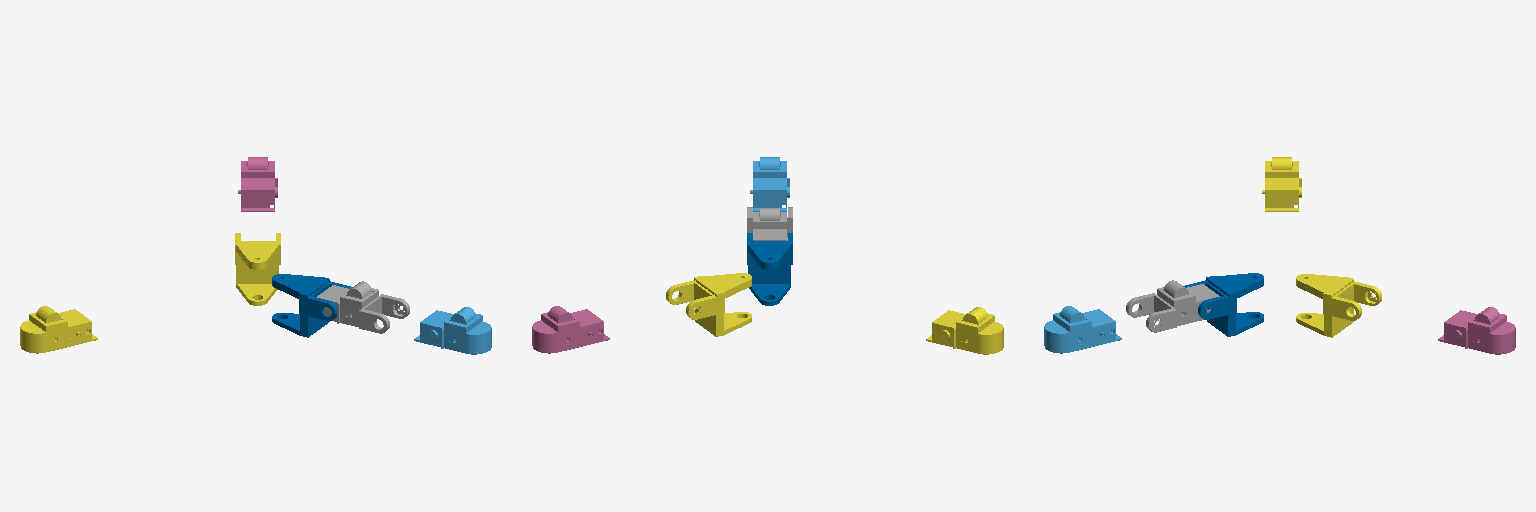
URDF robot description (Space_Gripper_URDF):
<?xml version="1.0" ?>
<robot name="Space_Gripper_URDF">

<!-- <material name="silver">
  <color rgba="0.700 0.700 0.700 1.000"/>
</material> -->

<link name="base_link">
  <inertial>
    <origin xyz="0.2824084412039241 -0.01747868073746133 -0.008955658350251122" rpy="0 0 0"/>
    <mass value="0.1968623967275559"/>
    <inertia ixx="0.000142852426045142" iyy="0.00014289312333068405" izz="0.00022031514808325964" ixy="-1.4233839801258696e-13" iyz="-5.326694082563935e-14" ixz="4.087505551153732e-09"/>
  </inertial>
  <visual>
    <origin xyz="0 0 0" rpy="0 0 0"/>
    <geometry>
      <mesh filename="meshes/base_link.stl" scale="0.001 0.001 0.001"/>
    </geometry>
    <!-- <material name="silver"/>
    <material/> -->
  </visual>
  <collision>
    <origin xyz="0 0 0" rpy="0 0 0"/>
    <geometry>
      <mesh filename="meshes/base_link.stl" scale="0.001 0.001 0.001"/>
    </geometry>
  </collision>
</link>

<link name="finger_link111">
  <inertial>
    <origin xyz="-0.018205227017697667 0.00015866735729531262 0.0019933440227124246" rpy="0 0 0"/>
    <mass value="0.058757815724503226"/>
    <inertia ixx="1.2086298377185494e-05" iyy="2.5715164283030044e-05" izz="2.879228567865405e-05" ixy="2.2279874047472035e-07" iyz="-5.4872261887554326e-08" ixz="1.5145439632609564e-06"/>
  </inertial>
  <visual>
    <origin xyz="-0.18625 0.015983 -0.002636" rpy="0 0 0"/>
    <geometry>
      <mesh filename="meshes/finger_link111.stl" scale="0.001 0.001 0.001"/>
    </geometry>
    <!-- <material name="silver"/>
    <material/> -->
  </visual>
  <collision>
    <origin xyz="-0.18625 0.015983 -0.002636" rpy="0 0 0"/>
    <geometry>
      <mesh filename="meshes/finger_link111.stl" scale="0.001 0.001 0.001"/>
    </geometry>
  </collision>
</link>

<link name="finger_link121">
  <inertial>
    <origin xyz="-0.01820463486106834 0.00015866628118000464 0.001993344022712669" rpy="0 0 0"/>
    <mass value="0.05875781572450322"/>
    <inertia ixx="1.2086298377186012e-05" iyy="2.571516428301183e-05" izz="2.8792285678610357e-05" ixy="2.2279874047543863e-07" iyz="-5.4872261887839776e-08" ixz="1.5145439632596588e-06"/>
  </inertial>
  <visual>
    <origin xyz="-0.12573 0.015983 -0.002636" rpy="0 0 0"/>
    <geometry>
      <mesh filename="meshes/finger_link121.stl" scale="0.001 0.001 0.001"/>
    </geometry>
    <!-- <material name="silver"/>
    <material/> -->
  </visual>
  <collision>
    <origin xyz="-0.12573 0.015983 -0.002636" rpy="0 0 0"/>
    <geometry>
      <mesh filename="meshes/finger_link121.stl" scale="0.001 0.001 0.001"/>
    </geometry>
  </collision>
</link>

<link name="finger_link131">
  <inertial>
    <origin xyz="-0.019053961862239142 7.538214441370553e-05 0.0017196164826307867" rpy="0 0 0"/>
    <mass value="0.06168699584880364"/>
    <inertia ixx="1.0367677463030628e-05" iyy="2.6023436424459605e-05" izz="2.693695428223494e-05" ixy="2.1508324324166967e-08" iyz="-6.551227342465785e-08" ixz="1.1297772533768476e-06"/>
  </inertial>
  <visual>
    <origin xyz="-0.065211 0.015983 -0.002636" rpy="0 0 0"/>
    <geometry>
      <mesh filename="meshes/finger_link131.stl" scale="0.001 0.001 0.001"/>
    </geometry>
    <!-- <material name="silver"/>
    <material/> -->
  </visual>
  <collision>
    <origin xyz="-0.065211 0.015983 -0.002636" rpy="0 0 0"/>
    <geometry>
      <mesh filename="meshes/finger_link131.stl" scale="0.001 0.001 0.001"/>
    </geometry>
  </collision>
</link>

<link name="finger_link311">
  <inertial>
    <origin xyz="0.009239967439434893 0.015687081058691682 0.0019933440227124254" rpy="0 0 0"/>
    <mass value="0.058757815724503115"/>
    <inertia ixx="2.2114998447879657e-05" iyy="1.5686464226054297e-05" izz="2.8792285692595156e-05" ixy="-6.012871425806199e-06" iyz="-1.2841974334595889e-06" ixz="-8.047927642447679e-07"/>
  </inertial>
  <visual>
    <origin xyz="-0.331752 -0.065031 -0.002636" rpy="0 0 0"/>
    <geometry>
      <mesh filename="meshes/finger_link311.stl" scale="0.001 0.001 0.001"/>
    </geometry>
    <!-- <material name="silver"/>
    <material/> -->
  </visual>
  <collision>
    <origin xyz="-0.331752 -0.065031 -0.002636" rpy="0 0 0"/>
    <geometry>
      <mesh filename="meshes/finger_link311.stl" scale="0.001 0.001 0.001"/>
    </geometry>
  </collision>
</link>

<link name="finger_link321">
  <inertial>
    <origin xyz="0.009239670429177227 0.015686426211100155 0.001993344022712691" rpy="0 0 0"/>
    <mass value="0.05875781572450316"/>
    <inertia ixx="2.2114998447879657e-05" iyy="1.5686464226057767e-05" izz="2.8792285692599492e-05" ixy="-6.0128714258079335e-06" iyz="-1.2841974334595448e-06" ixz="-8.047927642447679e-07"/>
  </inertial>
  <visual>
    <origin xyz="-0.362012 -0.117443 -0.002636" rpy="0 0 0"/>
    <geometry>
      <mesh filename="meshes/finger_link321.stl" scale="0.001 0.001 0.001"/>
    </geometry>
    <!-- <material name="silver"/>
    <material/> -->
  </visual>
  <collision>
    <origin xyz="-0.362012 -0.117443 -0.002636" rpy="0 0 0"/>
    <geometry>
      <mesh filename="meshes/finger_link321.stl" scale="0.001 0.001 0.001"/>
    </geometry>
  </collision>
</link>

<link name="finger_link331">
  <inertial>
    <origin xyz="0.009592707751169272 0.016463598449517863 0.0017196164826307745" rpy="0 0 0"/>
    <mass value="0.06168699584880366"/>
    <inertia ixx="2.2090869937946983e-05" iyy="1.4300243961509057e-05" izz="2.693695429442644e-05" ixy="-6.789896655460051e-06" iyz="-9.456596826459644e-07" ixz="-6.216239297316171e-07"/>
  </inertial>
  <visual>
    <origin xyz="-0.392271 -0.169854 -0.002636" rpy="0 0 0"/>
    <geometry>
      <mesh filename="meshes/finger_link331.stl" scale="0.001 0.001 0.001"/>
    </geometry>
    <!-- <material name="silver"/>
    <material/> -->
  </visual>
  <collision>
    <origin xyz="-0.392271 -0.169854 -0.002636" rpy="0 0 0"/>
    <geometry>
      <mesh filename="meshes/finger_link331.stl" scale="0.001 0.001 0.001"/>
    </geometry>
  </collision>
</link>

<link name="finger_link211">
  <inertial>
    <origin xyz="0.008964553001198305 -0.0158457897051294 0.001993344022712414" rpy="0 0 0"/>
    <mass value="0.05875781572450313"/>
    <inertia ixx="2.250089717573448e-05" iyy="1.530056548438609e-05" izz="2.8792285678780685e-05" ixy="5.7900726794343944e-06" iyz="1.3390696782788821e-06" ixz="-7.097512088737208e-07"/>
  </inertial>
  <visual>
    <origin xyz="-0.329162 0.101484 -0.002636" rpy="0 0 0"/>
    <geometry>
      <mesh filename="meshes/finger_link211.stl" scale="0.001 0.001 0.001"/>
    </geometry>
    <!-- <material name="silver"/>
    <material/> -->
  </visual>
  <collision>
    <origin xyz="-0.329162 0.101484 -0.002636" rpy="0 0 0"/>
    <geometry>
      <mesh filename="meshes/finger_link211.stl" scale="0.001 0.001 0.001"/>
    </geometry>
  </collision>
</link>

<link name="finger_link221">
  <inertial>
    <origin xyz="0.008965257854827213 -0.01584513378142255 0.0019933440227126796" rpy="0 0 0"/>
    <mass value="0.05875781572450321"/>
    <inertia ixx="2.250089717573448e-05" iyy="1.530056548438609e-05" izz="2.879228567878242e-05" ixy="5.790072679435262e-06" iyz="1.3390696782788347e-06" ixz="-7.097512088737615e-07"/>
  </inertial>
  <visual>
    <origin xyz="-0.359421 0.153896 -0.002636" rpy="0 0 0"/>
    <geometry>
      <mesh filename="meshes/finger_link221.stl" scale="0.001 0.001 0.001"/>
    </geometry>
    <!-- <material name="silver"/>
    <material/> -->
  </visual>
  <collision>
    <origin xyz="-0.359421 0.153896 -0.002636" rpy="0 0 0"/>
    <geometry>
      <mesh filename="meshes/finger_link221.stl" scale="0.001 0.001 0.001"/>
    </geometry>
  </collision>
</link>

<link name="finger_link231">
  <inertial>
    <origin xyz="0.009461547533584691 -0.016539021883803656 0.0017196164826307546" rpy="0 0 0"/>
    <mass value="0.061686995848803675"/>
    <inertia ixx="2.2128123439353956e-05" iyy="1.426299044805443e-05" izz="2.693695428237705e-05" ixy="6.76838832596241e-06" iyz="1.0111719387549014e-06" ixz="-5.081533336429451e-07"/>
  </inertial>
  <visual>
    <origin xyz="-0.389681 0.206307 -0.002636" rpy="0 0 0"/>
    <geometry>
      <mesh filename="meshes/finger_link231.stl" scale="0.001 0.001 0.001"/>
    </geometry>
    <!-- <material name="silver"/>
    <material/> -->
  </visual>
  <collision>
    <origin xyz="-0.389681 0.206307 -0.002636" rpy="0 0 0"/>
    <geometry>
      <mesh filename="meshes/finger_link231.stl" scale="0.001 0.001 0.001"/>
    </geometry>
  </collision>
</link>

<link name="palm_link11">
  <inertial>
    <origin xyz="-0.033808036955607745 0.0003209242466304836 0.004859626131341327" rpy="0 0 0"/>
    <mass value="0.04512002505288437"/>
    <inertia ixx="1.955569656739964e-05" iyy="2.2266615430205448e-05" izz="1.8449937761857993e-05" ixy="2.5455755867535086e-07" iyz="-1.2175243086354105e-07" ixz="8.540751990812511e-07"/>
  </inertial>
  <visual>
    <origin xyz="-0.252173 0.016479 0.010014" rpy="0 0 0"/>
    <geometry>
      <mesh filename="meshes/palm_link11.stl" scale="0.001 0.001 0.001"/>
    </geometry>
    <!-- <material name="silver"/>
    <material/> -->
  </visual>
  <collision>
    <origin xyz="-0.252173 0.016479 0.010014" rpy="0 0 0"/>
    <geometry>
      <mesh filename="meshes/palm_link11.stl" scale="0.001 0.001 0.001"/>
    </geometry>
  </collision>
</link>

<link name="palm_link31">
  <inertial>
    <origin xyz="0.017181842395234237 0.029118389688091016 0.00485962613541978" rpy="0 0 0"/>
    <mass value="0.04512002511118017"/>
    <inertia ixx="2.136843242511441e-05" iyy="2.0453879616765848e-05" izz="1.8449937789699437e-05" ixy="-1.3011410833712158e-06" iyz="-6.787746076151967e-07" ixz="-5.324782961754261e-07"/>
  </inertial>
  <visual>
    <origin xyz="-0.298361 -0.008188 0.010014" rpy="0 0 0"/>
    <geometry>
      <mesh filename="meshes/palm_link31.stl" scale="0.001 0.001 0.001"/>
    </geometry>
    <!-- <material name="silver"/>
    <material/> -->
  </visual>
  <collision>
    <origin xyz="-0.298361 -0.008188 0.010014" rpy="0 0 0"/>
    <geometry>
      <mesh filename="meshes/palm_link31.stl" scale="0.001 0.001 0.001"/>
    </geometry>
  </collision>
</link>

<link name="palm_link21">
  <inertial>
    <origin xyz="0.016626487983982474 -0.029438355242833773 0.004859626135419766" rpy="0 0 0"/>
    <mass value="0.04512002511118007"/>
    <inertia ixx="2.180933905096083e-05" iyy="2.0012972990917678e-05" izz="1.8449937789695968e-05" ixy="1.0465835242510439e-06" iyz="8.005270352593836e-07" ixz="-3.215969055509328e-07"/>
  </inertial>
  <visual>
    <origin xyz="-0.296629 0.044146 0.010014" rpy="0 0 0"/>
    <geometry>
      <mesh filename="meshes/palm_link21.stl" scale="0.001 0.001 0.001"/>
    </geometry>
    <!-- <material name="silver"/>
    <material/> -->
  </visual>
  <collision>
    <origin xyz="-0.296629 0.044146 0.010014" rpy="0 0 0"/>
    <geometry>
      <mesh filename="meshes/palm_link21.stl" scale="0.001 0.001 0.001"/>
    </geometry>
  </collision>
</link>

<joint name="finger_joint_1_1" type="revolute">
  <origin xyz="-0.065923 0.000496 0.01265" rpy="0 0 0"/>
  <parent link="palm_link11"/>
  <child link="finger_link111"/>
  <axis xyz="-0.0 -1.0 0.0"/>
  <limit upper="0.0" lower="-1.570796" effort="100" velocity="100"/>
</joint>
<transmission name="finger_joint_1_1_tran">
  <type>transmission_interface/SimpleTransmission</type>
  <joint name="finger_joint_1_1">
    <hardwareInterface>PositionJointInterface</hardwareInterface>
  </joint>
  <actuator name="finger_joint_1_1_actr">
    <hardwareInterface>PositionJointInterface</hardwareInterface>
    <mechanicalReduction>1</mechanicalReduction>
  </actuator>
</transmission>

<joint name="finger_joint_1_2" type="revolute">
  <origin xyz="-0.06052 0.0 0.0" rpy="0 0 0"/>
  <parent link="finger_link111"/>
  <child link="finger_link121"/>
  <axis xyz="0.0 1.0 0.0"/>
  <limit upper="1.570796" lower="0.0" effort="100" velocity="100"/>
</joint>
<transmission name="finger_joint_1_2_tran">
  <type>transmission_interface/SimpleTransmission</type>
  <joint name="finger_joint_1_2">
    <hardwareInterface>PositionJointInterface</hardwareInterface>
  </joint>
  <actuator name="finger_joint_1_2_actr">
    <hardwareInterface>PositionJointInterface</hardwareInterface>
    <mechanicalReduction>1</mechanicalReduction>
  </actuator>
</transmission>

<joint name="finger_joint_1_3" type="revolute">
  <origin xyz="-0.060519 0.0 0.0" rpy="0 0 0"/>
  <parent link="finger_link121"/>
  <child link="finger_link131"/>
  <axis xyz="-0.0 -1.0 -0.0"/>
  <limit upper="0.0" lower="-1.570796" effort="100" velocity="100"/>
</joint>
<transmission name="finger_joint_1_3_tran">
  <type>transmission_interface/SimpleTransmission</type>
  <joint name="finger_joint_1_3">
    <hardwareInterface>PositionJointInterface</hardwareInterface>
  </joint>
  <actuator name="finger_joint_1_3_actr">
    <hardwareInterface>PositionJointInterface</hardwareInterface>
    <mechanicalReduction>1</mechanicalReduction>
  </actuator>
</transmission>

<joint name="finger_joint_3_1" type="revolute">
  <origin xyz="0.033391 0.056843 0.01265" rpy="0 0 0"/>
  <parent link="palm_link31"/>
  <child link="finger_link311"/>
  <axis xyz="-0.866025 0.5 0.0"/>
  <limit upper="0.0" lower="-1.570796" effort="100" velocity="100"/>
</joint>
<transmission name="finger_joint_3_1_tran">
  <type>transmission_interface/SimpleTransmission</type>
  <joint name="finger_joint_3_1">
    <hardwareInterface>PositionJointInterface</hardwareInterface>
  </joint>
  <actuator name="finger_joint_3_1_actr">
    <hardwareInterface>PositionJointInterface</hardwareInterface>
    <mechanicalReduction>1</mechanicalReduction>
  </actuator>
</transmission>

<joint name="finger_joint_3_2" type="revolute">
  <origin xyz="0.03026 0.052412 0.0" rpy="0 0 0"/>
  <parent link="finger_link311"/>
  <child link="finger_link321"/>
  <axis xyz="-0.866025 0.5 -0.0"/>
  <limit upper="0.0" lower="-1.570796" effort="100" velocity="100"/>
</joint>
<transmission name="finger_joint_3_2_tran">
  <type>transmission_interface/SimpleTransmission</type>
  <joint name="finger_joint_3_2">
    <hardwareInterface>PositionJointInterface</hardwareInterface>
  </joint>
  <actuator name="finger_joint_3_2_actr">
    <hardwareInterface>PositionJointInterface</hardwareInterface>
    <mechanicalReduction>1</mechanicalReduction>
  </actuator>
</transmission>

<joint name="finger_joint_3_3" type="revolute">
  <origin xyz="0.030259 0.052411 0.0" rpy="0 0 0"/>
  <parent link="finger_link321"/>
  <child link="finger_link331"/>
  <axis xyz="-0.866025 0.5 -0.0"/>
  <limit upper="0.0" lower="-1.570796" effort="100" velocity="100"/>
</joint>
<transmission name="finger_joint_3_3_tran">
  <type>transmission_interface/SimpleTransmission</type>
  <joint name="finger_joint_3_3">
    <hardwareInterface>PositionJointInterface</hardwareInterface>
  </joint>
  <actuator name="finger_joint_3_3_actr">
    <hardwareInterface>PositionJointInterface</hardwareInterface>
    <mechanicalReduction>1</mechanicalReduction>
  </actuator>
</transmission>

<joint name="finger_joint_2_1" type="revolute">
  <origin xyz="0.032533 -0.057338 0.01265" rpy="0 0 0"/>
  <parent link="palm_link21"/>
  <child link="finger_link211"/>
  <axis xyz="-0.866025 -0.5 -0.0"/>
  <limit upper="1.570796" lower="0.0" effort="100" velocity="100"/>
</joint>
<transmission name="finger_joint_2_1_tran">
  <type>transmission_interface/SimpleTransmission</type>
  <joint name="finger_joint_2_1">
    <hardwareInterface>PositionJointInterface</hardwareInterface>
  </joint>
  <actuator name="finger_joint_2_1_actr">
    <hardwareInterface>PositionJointInterface</hardwareInterface>
    <mechanicalReduction>1</mechanicalReduction>
  </actuator>
</transmission>

<joint name="finger_joint_2_2" type="revolute">
  <origin xyz="0.030259 -0.052412 0.0" rpy="0 0 0"/>
  <parent link="finger_link211"/>
  <child link="finger_link221"/>
  <axis xyz="-0.866025 -0.5 0.0"/>
  <limit upper="1.570796" lower="0.0" effort="100" velocity="100"/>
</joint>
<transmission name="finger_joint_2_2_tran">
  <type>transmission_interface/SimpleTransmission</type>
  <joint name="finger_joint_2_2">
    <hardwareInterface>PositionJointInterface</hardwareInterface>
  </joint>
  <actuator name="finger_joint_2_2_actr">
    <hardwareInterface>PositionJointInterface</hardwareInterface>
    <mechanicalReduction>1</mechanicalReduction>
  </actuator>
</transmission>

<joint name="finger_joint_2_3" type="revolute">
  <origin xyz="0.03026 -0.052411 0.0" rpy="0 0 0"/>
  <parent link="finger_link221"/>
  <child link="finger_link231"/>
  <axis xyz="-0.866025 -0.5 0.0"/>
  <limit upper="1.570796" lower="0.0" effort="100" velocity="100"/>
</joint>
<transmission name="finger_joint_2_3_tran">
  <type>transmission_interface/SimpleTransmission</type>
  <joint name="finger_joint_2_3">
    <hardwareInterface>PositionJointInterface</hardwareInterface>
  </joint>
  <actuator name="finger_joint_2_3_actr">
    <hardwareInterface>PositionJointInterface</hardwareInterface>
    <mechanicalReduction>1</mechanicalReduction>
  </actuator>
</transmission>

<joint name="palm_joint_1" type="revolute">
  <origin xyz="0.252173 -0.016479 -0.010014" rpy="0 0 0"/>
  <parent link="base_link"/>
  <child link="palm_link11"/>
  <axis xyz="-0.0 0.0 1.0"/>
  <limit upper="0.523599" lower="-0.523599" effort="100" velocity="100"/>
</joint>
<transmission name="palm_joint_1_tran">
  <type>transmission_interface/SimpleTransmission</type>
  <joint name="palm_joint_1">
    <hardwareInterface>PositionJointInterface</hardwareInterface>
  </joint>
  <actuator name="palm_joint_1_actr">
    <hardwareInterface>PositionJointInterface</hardwareInterface>
    <mechanicalReduction>1</mechanicalReduction>
  </actuator>
</transmission>

<joint name="palm_joint_2" type="revolute">
  <origin xyz="0.298361 0.008188 -0.010014" rpy="0 0 0"/>
  <parent link="base_link"/>
  <child link="palm_link31"/>
  <axis xyz="-0.0 0.0 -1.0"/>
  <limit upper="0.523599" lower="-0.523599" effort="100" velocity="100"/>
</joint>
<transmission name="palm_joint_2_tran">
  <type>transmission_interface/SimpleTransmission</type>
  <joint name="palm_joint_2">
    <hardwareInterface>PositionJointInterface</hardwareInterface>
  </joint>
  <actuator name="palm_joint_2_actr">
    <hardwareInterface>PositionJointInterface</hardwareInterface>
    <mechanicalReduction>1</mechanicalReduction>
  </actuator>
</transmission>

<joint name="palm_joint_3" type="revolute">
  <origin xyz="0.296629 -0.044146 -0.010014" rpy="0 0 0"/>
  <parent link="base_link"/>
  <child link="palm_link21"/>
  <axis xyz="-0.0 -0.0 1.0"/>
  <limit upper="0.523599" lower="-0.523599" effort="100" velocity="100"/>
</joint>
<transmission name="palm_joint_3_tran">
  <type>transmission_interface/SimpleTransmission</type>
  <joint name="palm_joint_3">
    <hardwareInterface>PositionJointInterface</hardwareInterface>
  </joint>
  <actuator name="palm_joint_3_actr">
    <hardwareInterface>PositionJointInterface</hardwareInterface>
    <mechanicalReduction>1</mechanicalReduction>
  </actuator>
</transmission>

</robot>

--- What the picture shows (computed from the rendered views, not written in the file) ---
Views: 3 orthographic renders of the robot side by side, from view 1: azimuth 30°, elevation 25°; view 2: azimuth 150°, elevation 25°; view 3: azimuth 270°, elevation 25°.
Model Space_Gripper_URDF with 13 links and 12 joints (12 revolute), rooted at base_link, posed every joint at zero.
Links seen in each view (by area): view 1: finger_link211, palm_link21, finger_link231, finger_link131, palm_link31, finger_link331; view 2: palm_link31, palm_link21, finger_link131, finger_link331, finger_link231, finger_link211; view 3: palm_link31, palm_link21, finger_link211, finger_link331, finger_link231, finger_link131.
Boxes of the visible links, x1=… form: finger_link211: x1=316, y1=281, x2=409, y2=333; palm_link21: x1=272, y1=274, x2=352, y2=337; finger_link231: x1=414, y1=307, x2=491, y2=354; finger_link131: x1=20, y1=306, x2=97, y2=353; palm_link31: x1=235, y1=233, x2=280, y2=305; finger_link331: x1=238, y1=157, x2=277, y2=211; palm_link31: x1=666, y1=273, x2=751, y2=336; palm_link21: x1=747, y1=233, x2=792, y2=305; finger_link131: x1=926, y1=307, x2=1003, y2=354; finger_link331: x1=532, y1=306, x2=609, y2=353; finger_link231: x1=750, y1=157, x2=789, y2=211; finger_link211: x1=747, y1=207, x2=792, y2=240; palm_link31: x1=1296, y1=274, x2=1381, y2=337; palm_link21: x1=1183, y1=273, x2=1263, y2=336; finger_link211: x1=1126, y1=280, x2=1219, y2=332; finger_link331: x1=1438, y1=307, x2=1515, y2=354; finger_link231: x1=1044, y1=306, x2=1121, y2=353; finger_link131: x1=1262, y1=157, x2=1301, y2=211.
Bounding box of the posed robot: 0.418 × 0.4759 × 0.0615 m (x, y, z).
6 mesh visuals loaded from 13 distinct referenced files (6 binary STL); not drawn: 7 (reference not matched to a file when rendering).